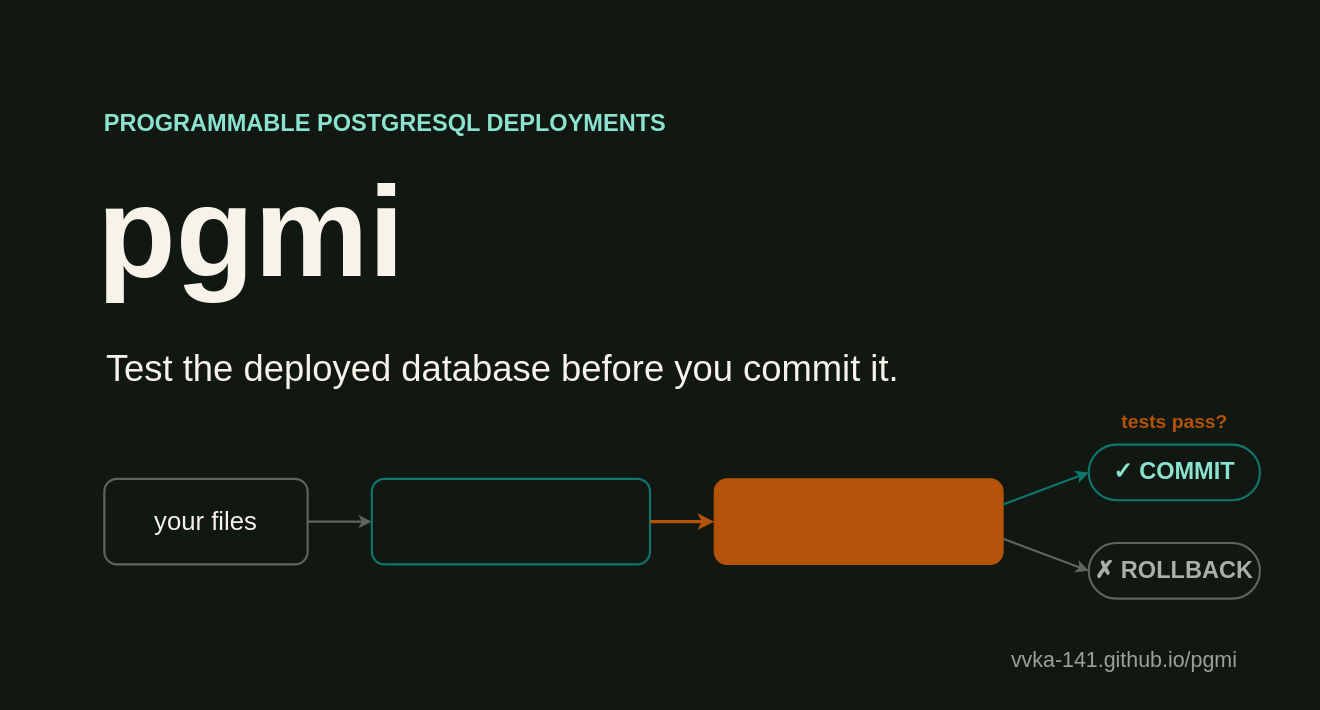
The diagram is 1320 pixels wide and 710 high, and some of its shapes have lost their labels. Each missing label, with the centre of its shape:
"deploy.sql runs & tests" goes at (x=858, y=521).
"one PostgreSQL session" goes at (x=510, y=521).
